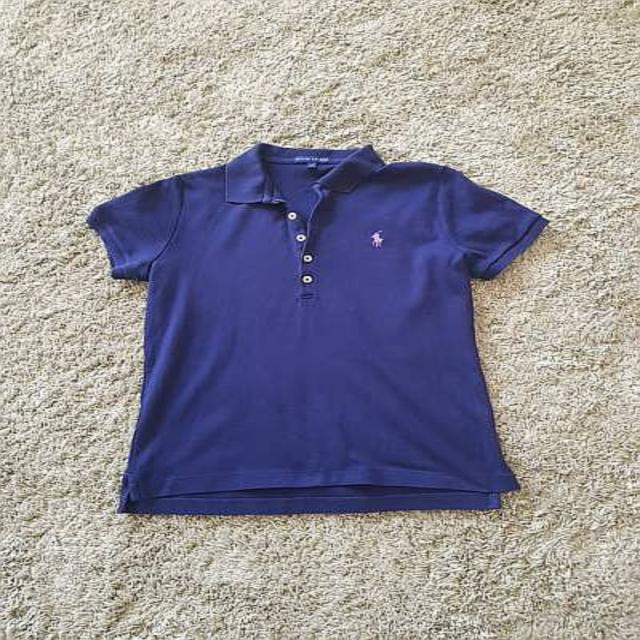T_SHIRT: (73, 130, 557, 535)
